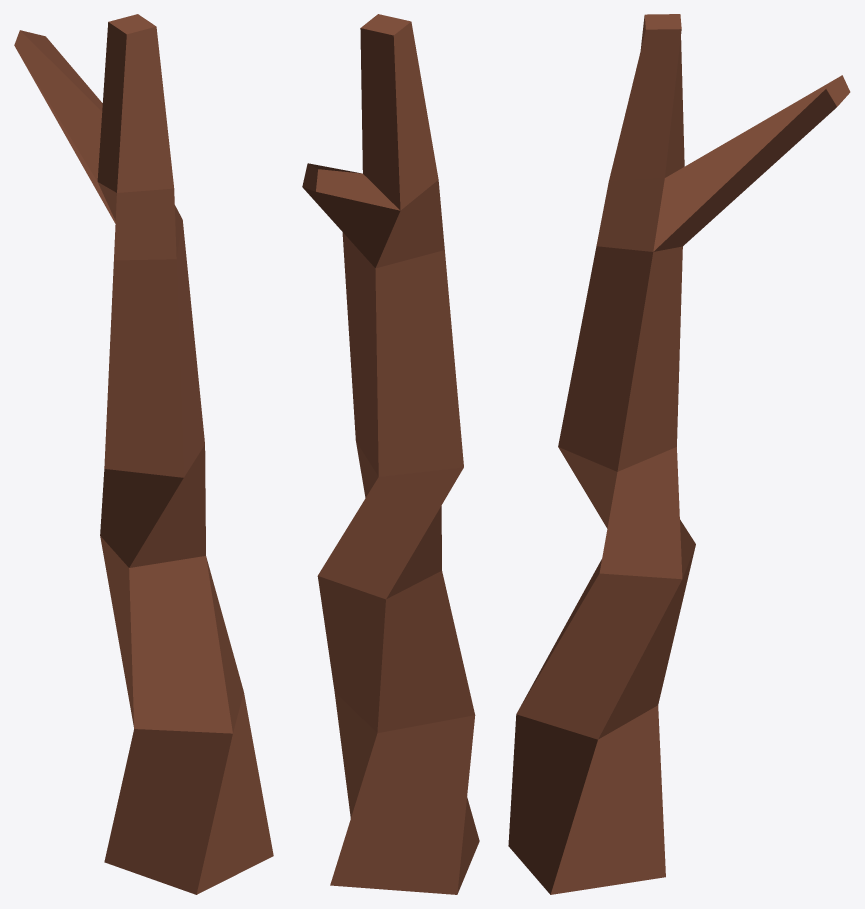
File: Tree_14_spring_mat.fbx
3 renders of one model, left to right at view 1: azimuth 30°, elevation 25°; view 2: azimuth 150°, elevation 25°; view 3: azimuth 270°, elevation 25°, orthographic. The views are drawn at different scales.
Parts seen in each view (by area): view 1: Tree_14_spring_mat; view 2: Tree_14_spring_mat; view 3: Tree_14_spring_mat.
Boxes of the visible parts, box(x1,y1,x2,y2) form: Tree_14_spring_mat: box(14, 14, 273, 894); Tree_14_spring_mat: box(302, 14, 479, 894); Tree_14_spring_mat: box(508, 14, 850, 894).
Size of the model in its own units: 1.08 by 6.12 by 2.29.
